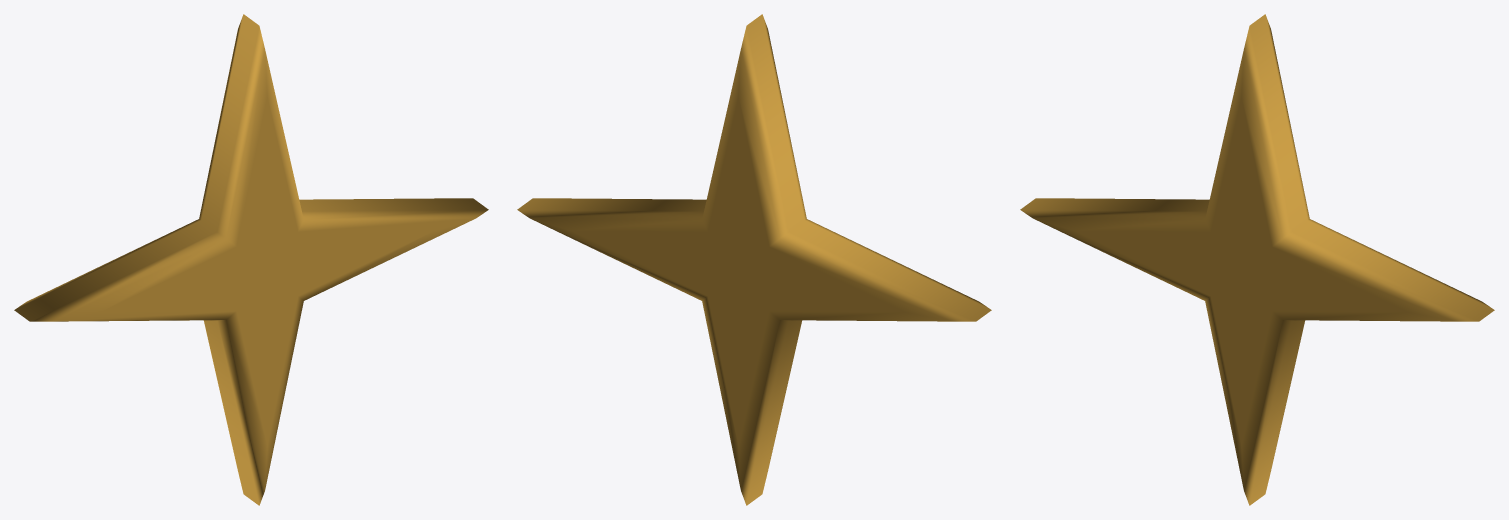
The model's file is spark.glb.
3 views of the same model, side by side, from view 1: azimuth 30°, elevation 25°; view 2: azimuth 150°, elevation 25°; view 3: azimuth 330°, elevation 25° (orthographic).
Visible parts, largest first — view 1: spark; view 2: spark; view 3: spark.
Part boxes in pixels (x1,y1,x2,y2): spark: [14, 14, 488, 505]; spark: [517, 14, 991, 505]; spark: [1020, 14, 1494, 505].
Size of the model in its own units: 1 by 1 by 0.12.
